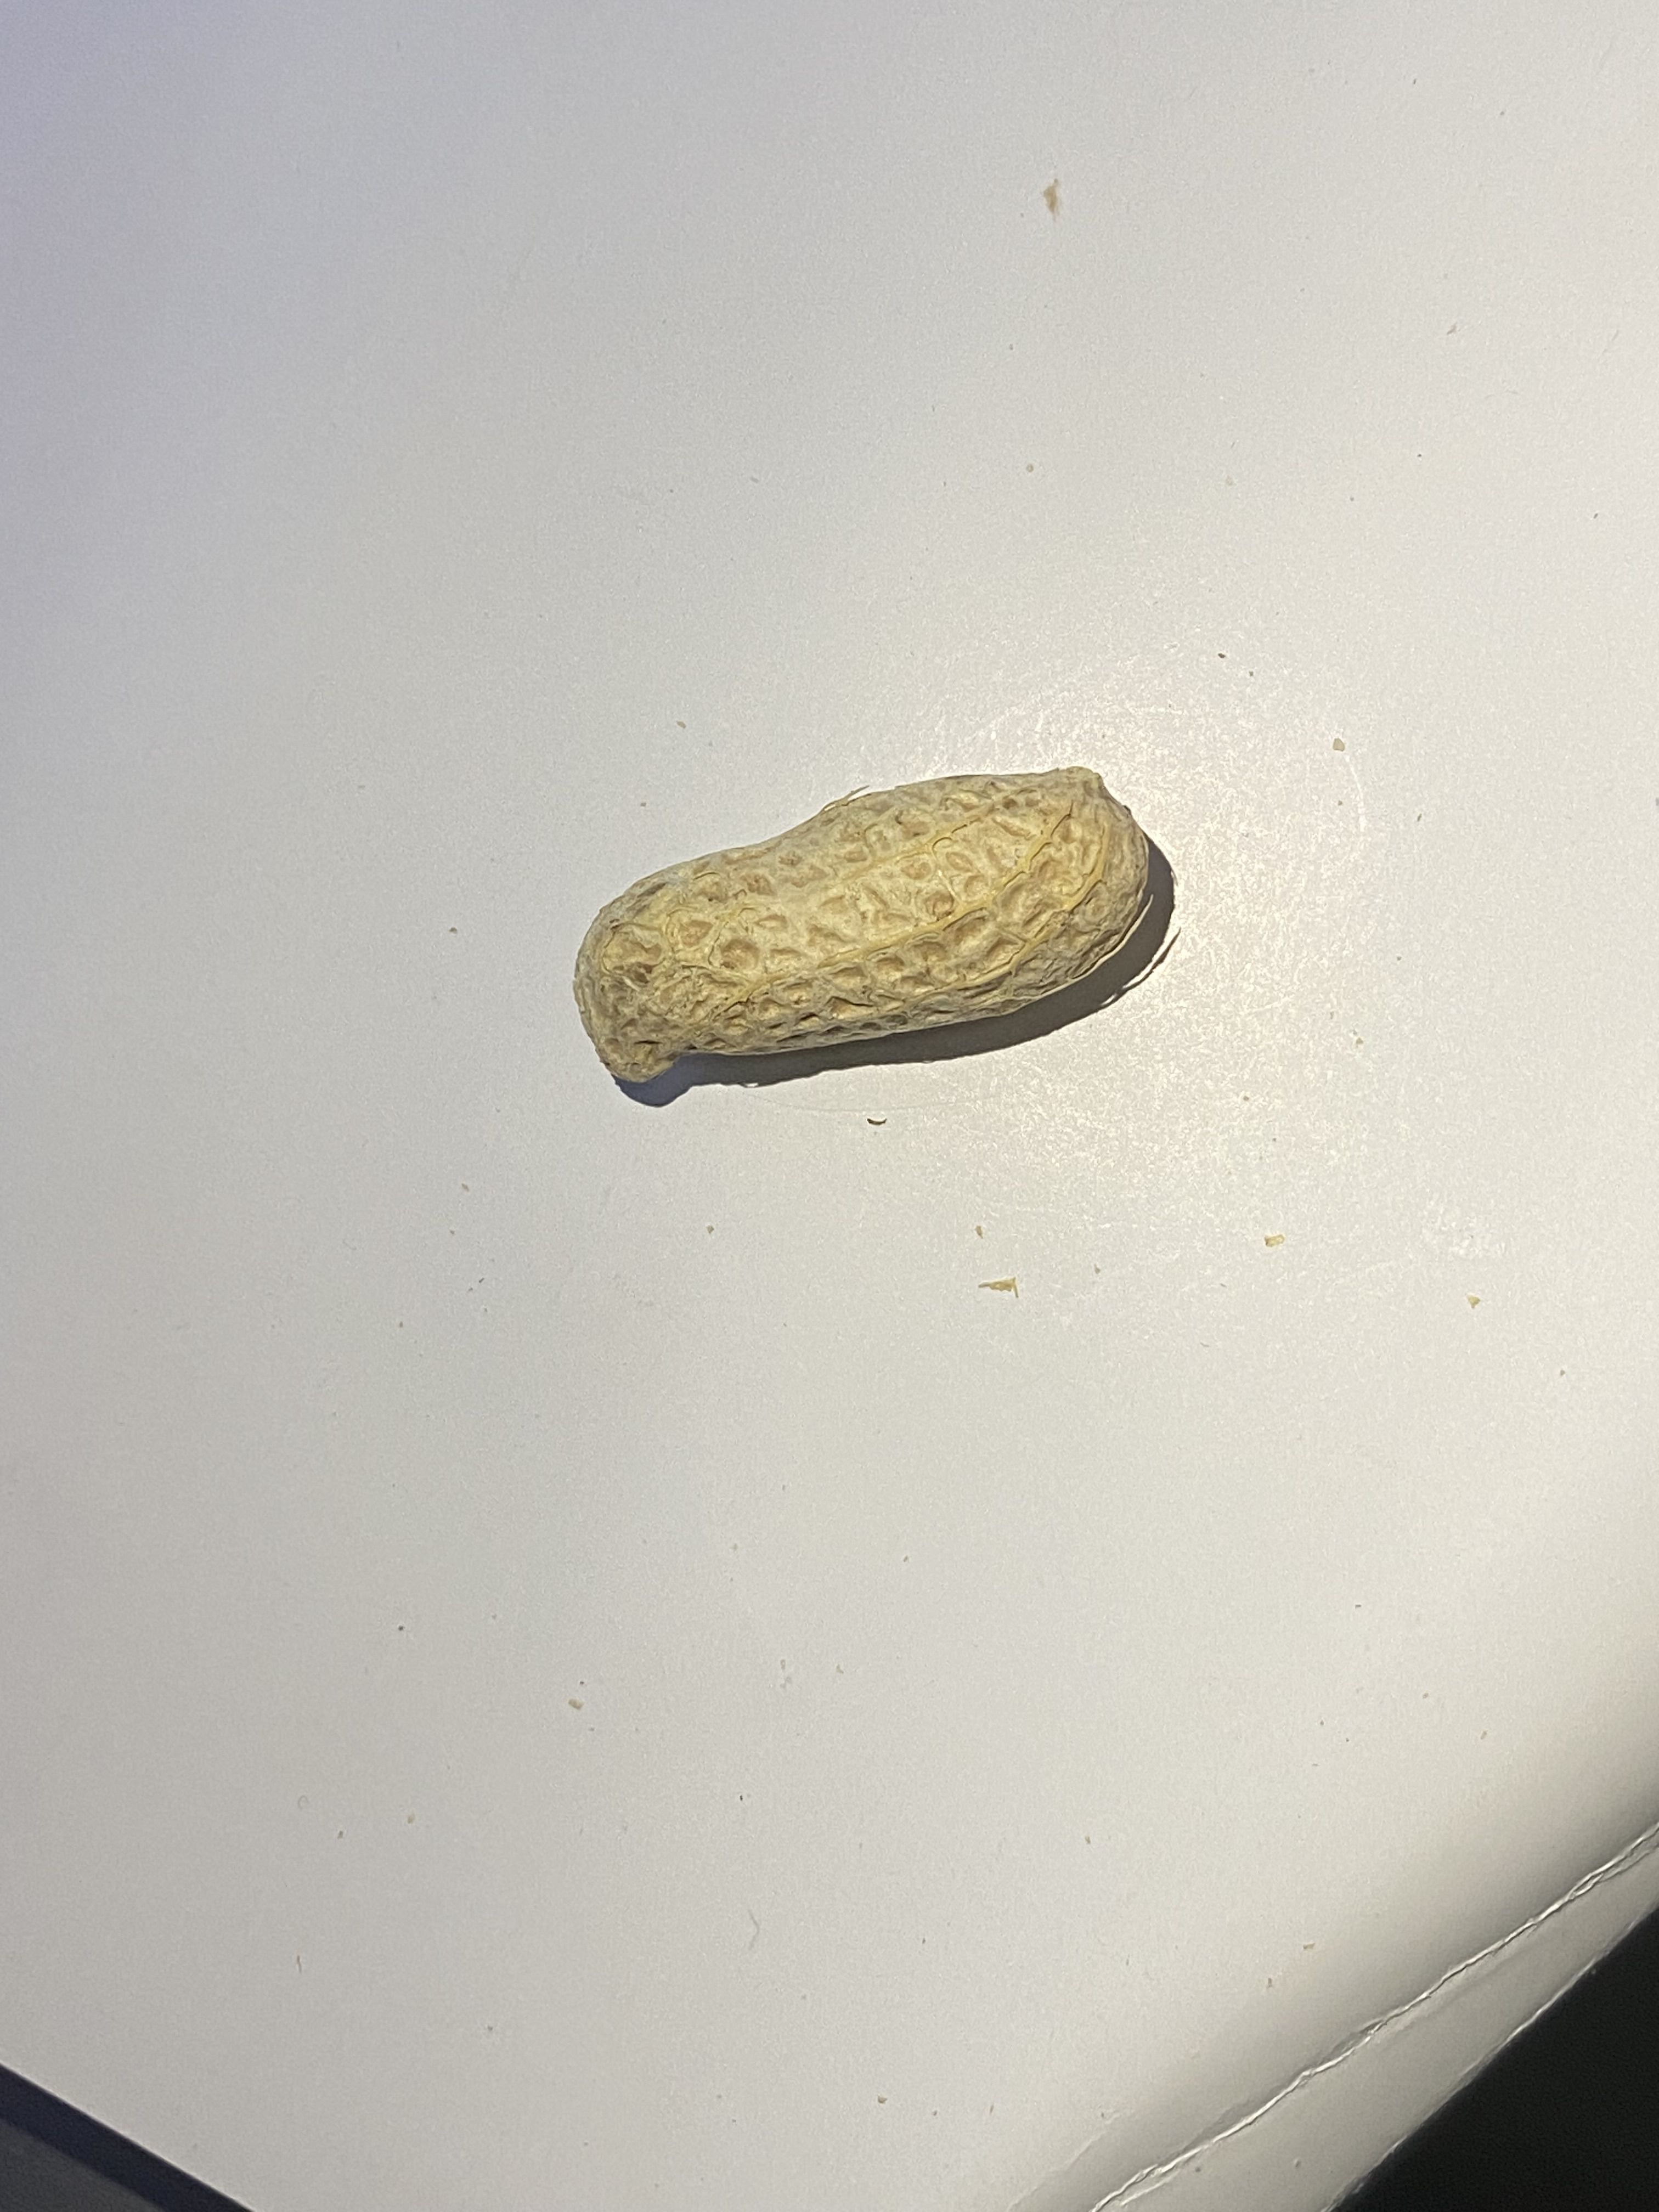kacang2: (537, 714, 1197, 1106)
